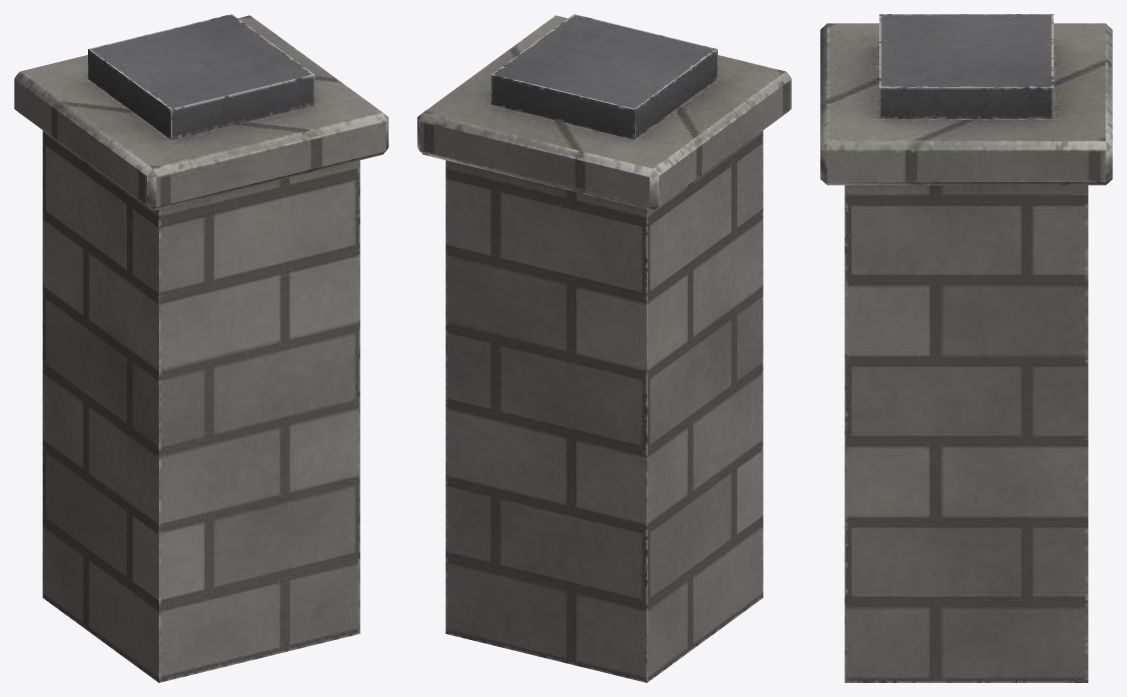
Rendered from chamine.glb.
3 views of the same model, side by side, from view 1: azimuth 30°, elevation 25°; view 2: azimuth 150°, elevation 25°; view 3: azimuth 270°, elevation 25° (orthographic). The views are drawn at different scales.
Parts seen in each view (by area): view 1: chamine; view 2: chamine; view 3: chamine.
Boxes of the visible parts, x1,y1,x2,y2 form: chamine: (14, 14, 388, 682); chamine: (417, 14, 791, 682); chamine: (820, 14, 1112, 682).
Size of the model in its own units: 0.84 by 1.84 by 0.84.
Materials: 1 (1 with a texture image).
